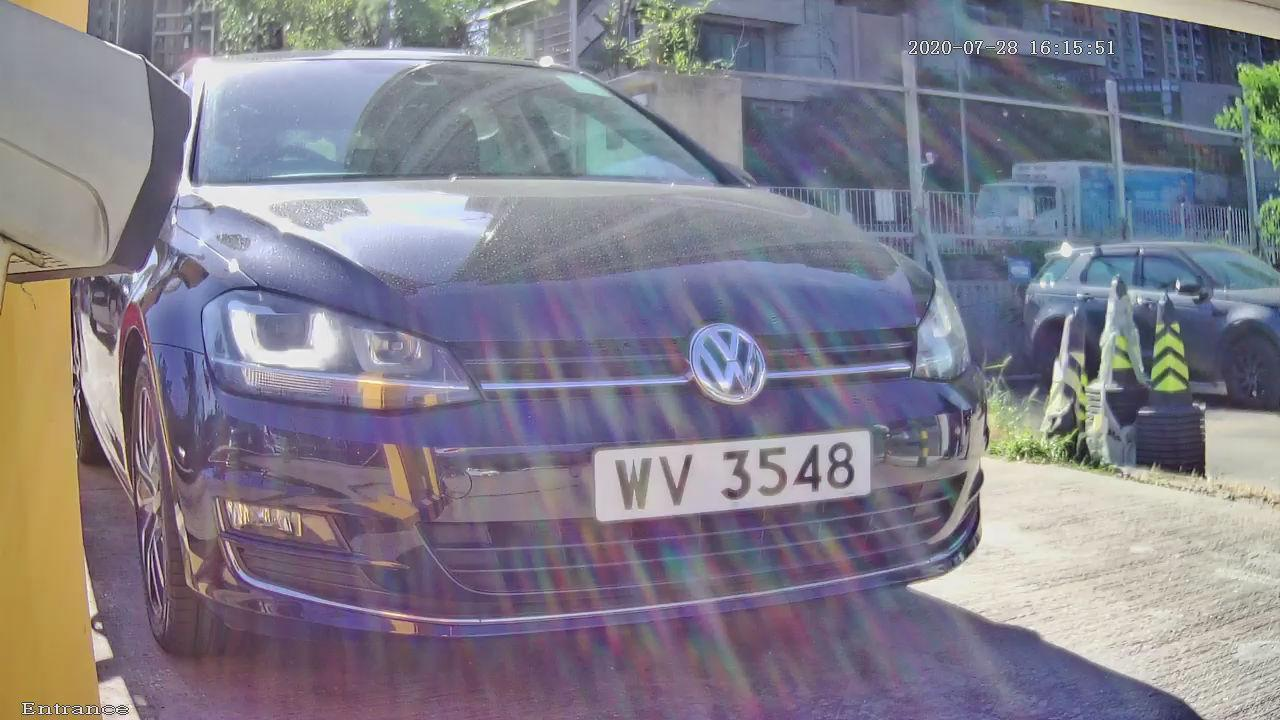privatecar: (46, 20, 1103, 701)
